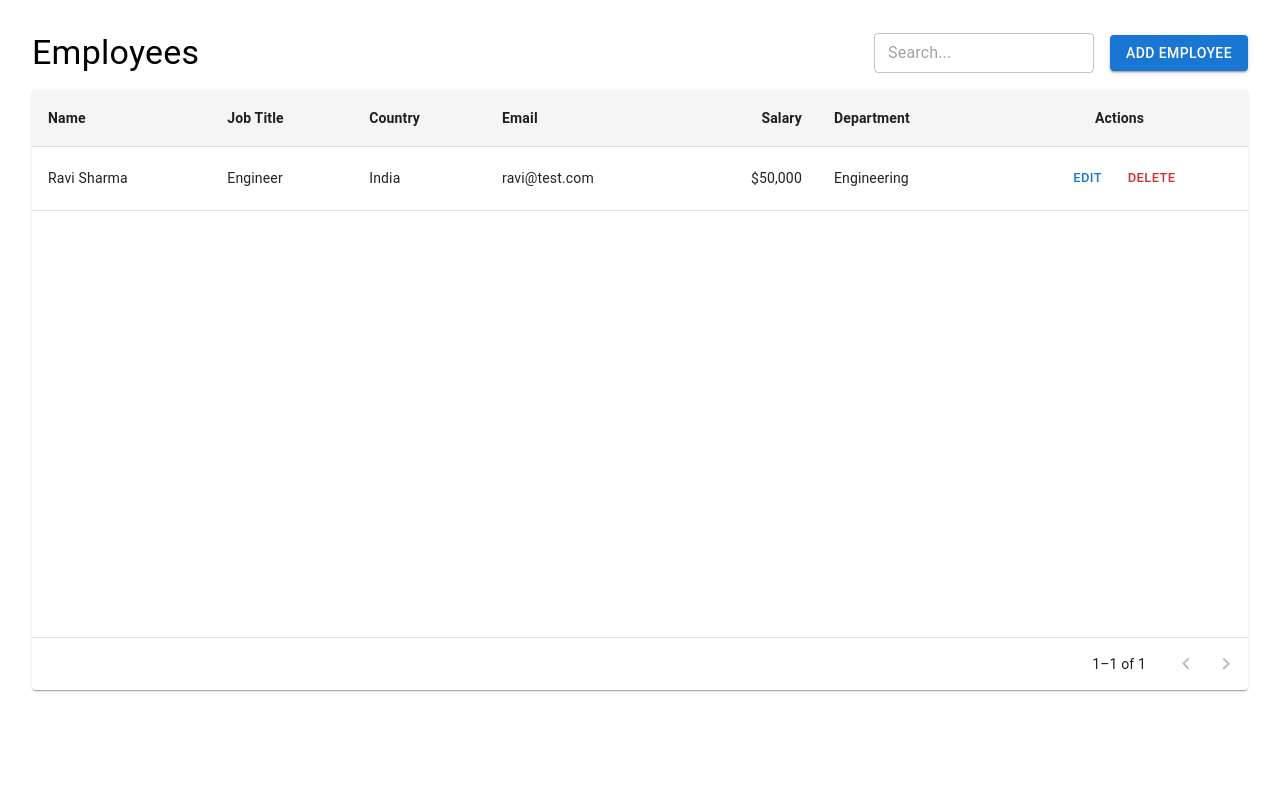
Test case: EmployeesPage › submits edit modal and updates employee in table
Expected: the text "Ravi Sharma" is shown, [32,147,211,211]
Click the button "Edit" at coordinates (1088, 178), box [1056,163,1120,194]
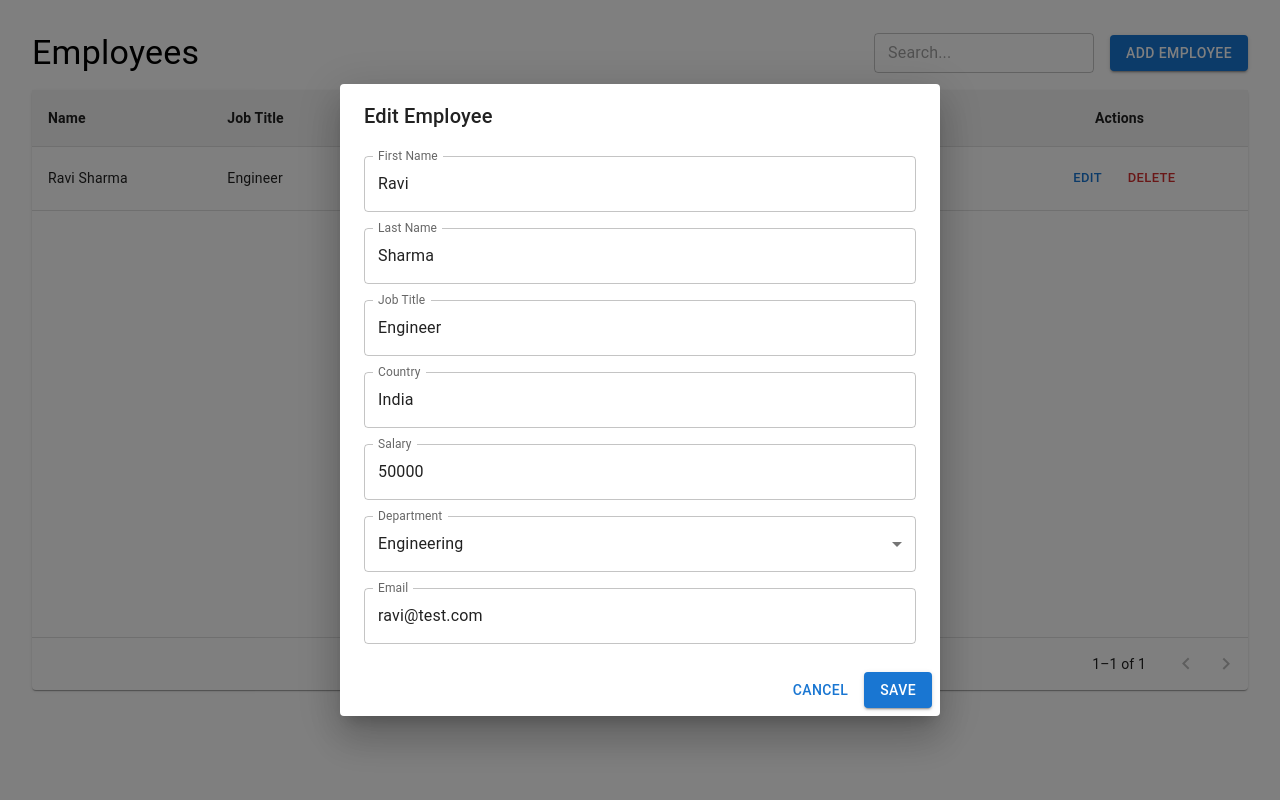
Replace the text in the field labelled "Job Title" with "Senior Engineer" at coordinates (640, 328), box [364,300,916,356]
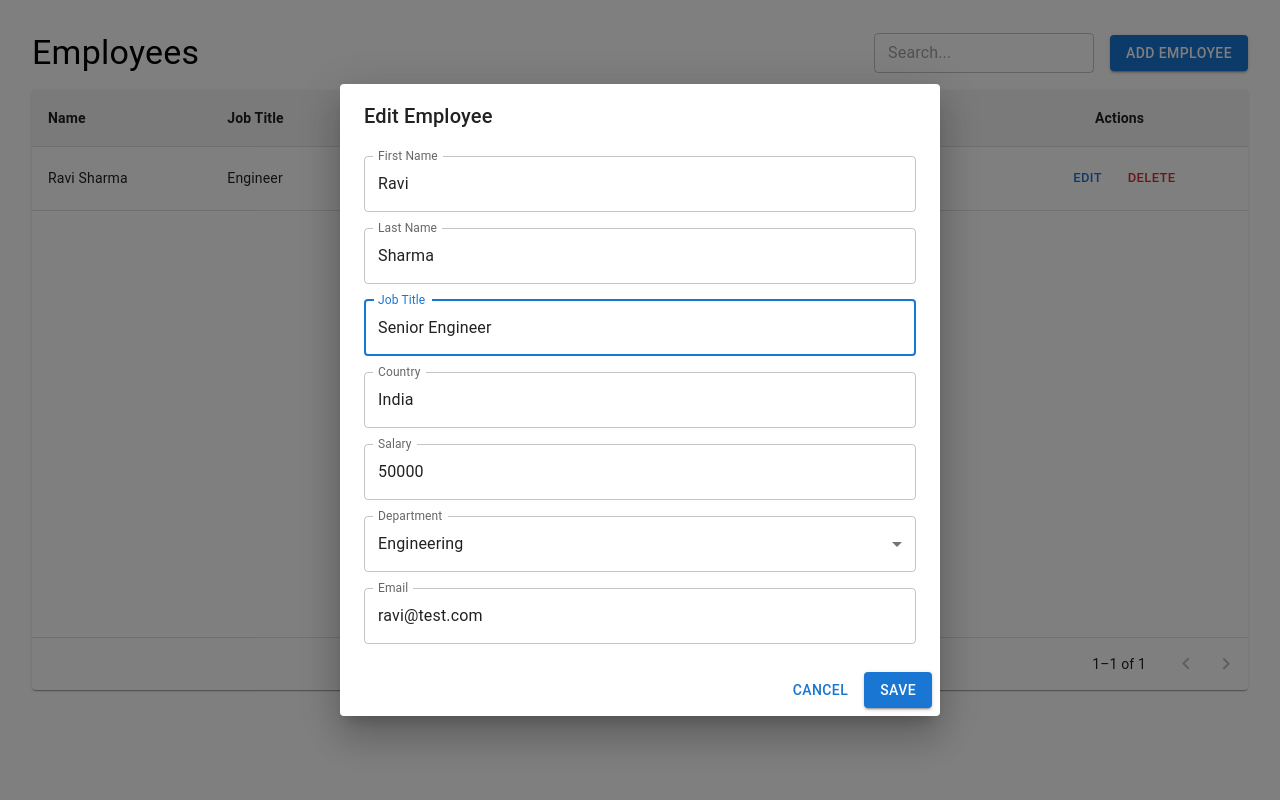
Replace the text in the number field labelled "Salary" with "55000" at coordinates (640, 472), box [364,444,916,500]
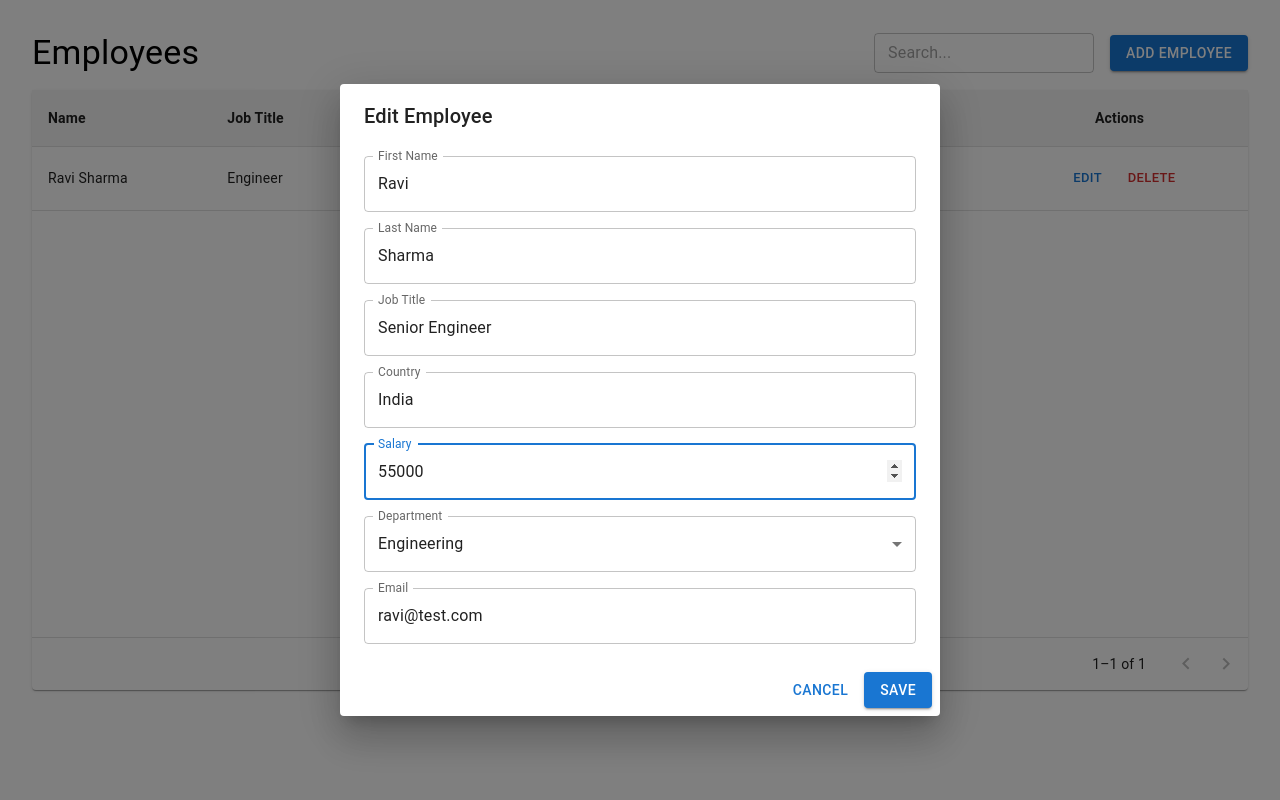
Click the button "Save" at coordinates (898, 690), box [864,672,932,708]
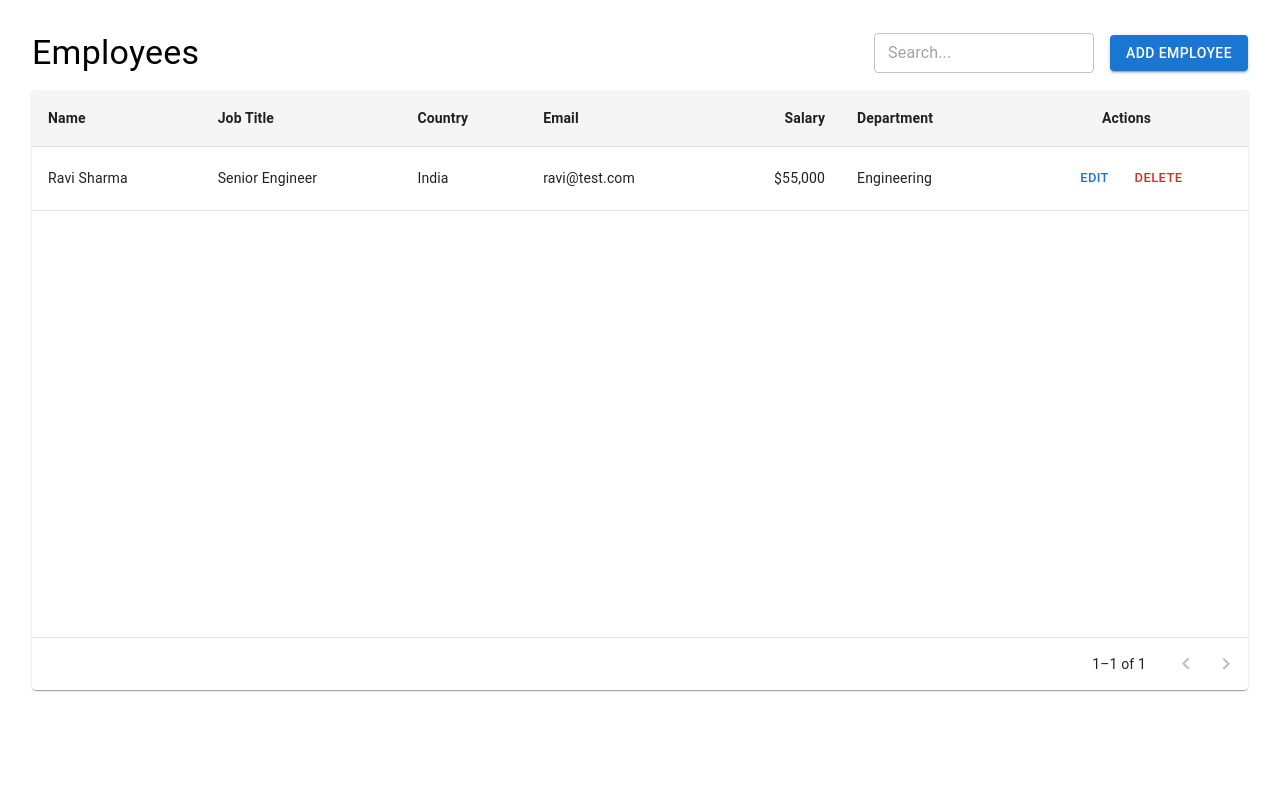
Now the text "Senior Engineer" is shown, box [202,147,401,211]
